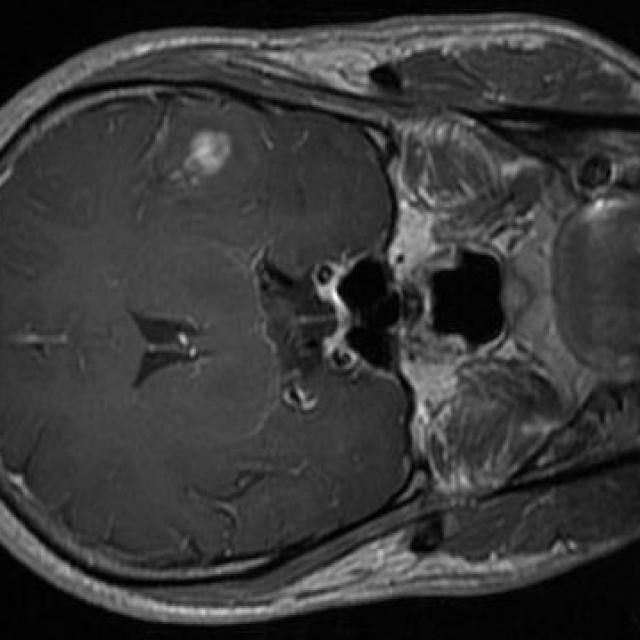glioma: (168, 128, 232, 184)
